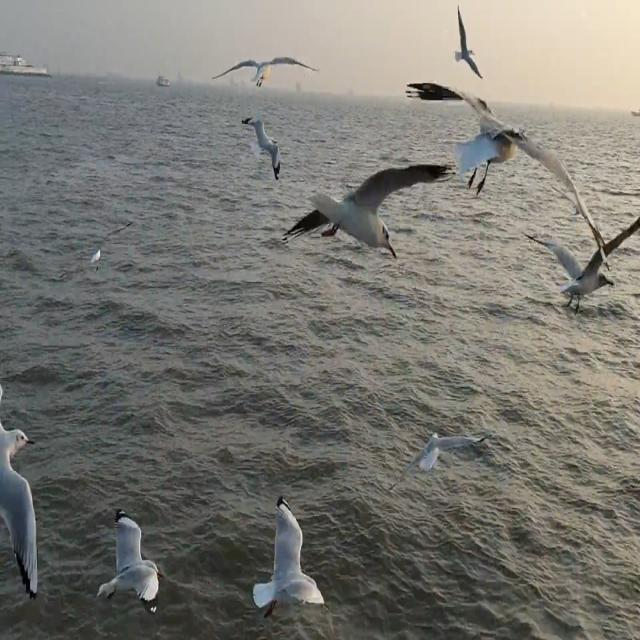bird: (402, 73, 580, 240), (280, 154, 458, 285), (524, 216, 639, 317), (245, 492, 328, 625), (0, 387, 43, 610), (92, 507, 168, 623), (386, 424, 488, 506), (51, 210, 136, 278), (211, 50, 317, 102), (244, 111, 284, 182), (450, 3, 486, 80)
